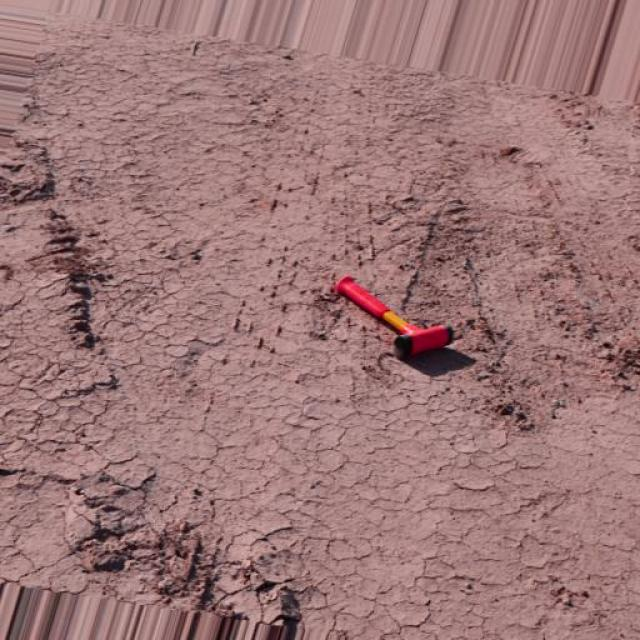mallet: (335, 272, 456, 358)
